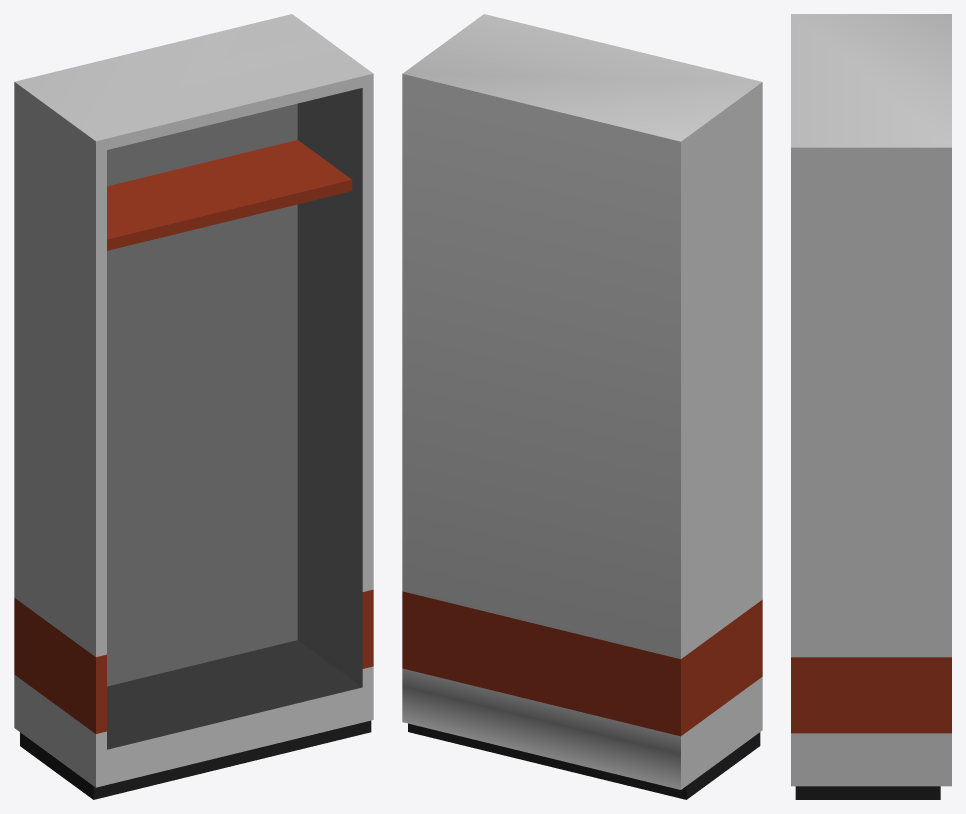
File: drawer-1.glb
3 views of the same model, side by side, from view 1: azimuth 30°, elevation 25°; view 2: azimuth 150°, elevation 25°; view 3: azimuth 270°, elevation 25° (orthographic).
Parts seen in each view (by area): view 1: Drawer_1; view 2: Drawer_1; view 3: Drawer_1.
Boxes of the visible parts, x1,y1,x2,y2 form: Drawer_1: (14, 14, 373, 799); Drawer_1: (402, 14, 762, 799); Drawer_1: (791, 14, 951, 799).
Bounding box in the file's own units: 80 × 182 × 40.63.
1 material, 1 textured.
